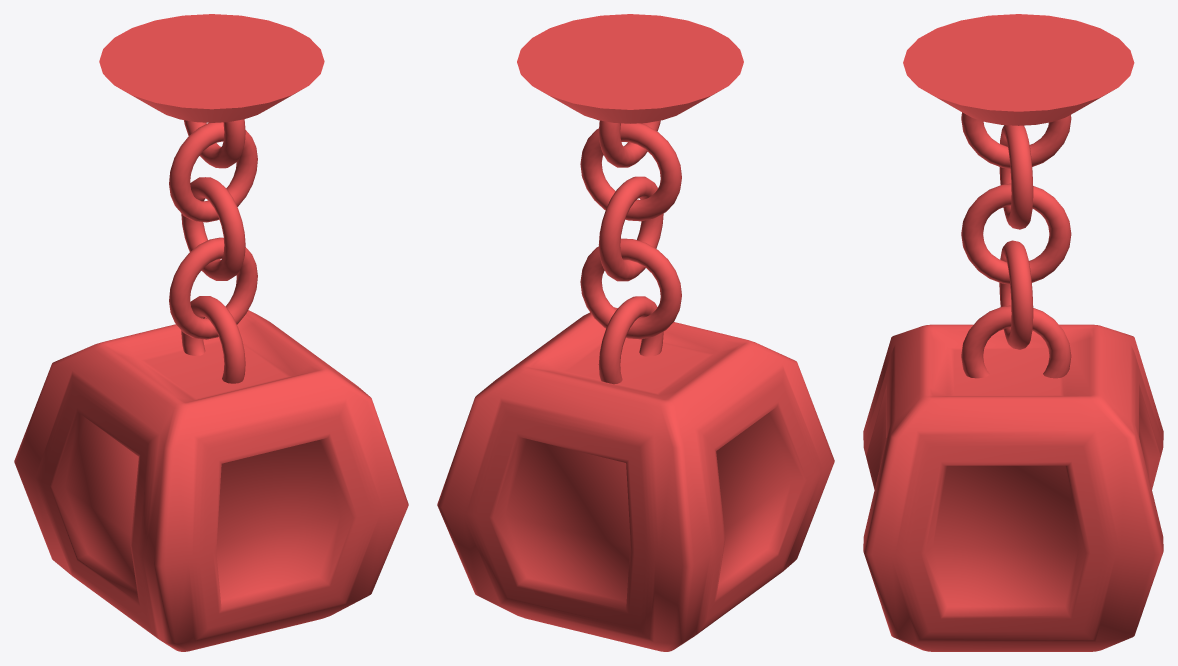
File: lampara.fbx
3 renders of one model, left to right at view 1: azimuth 30°, elevation 25°; view 2: azimuth 150°, elevation 25°; view 3: azimuth 270°, elevation 25°, orthographic. The views are drawn at different scales.
Parts seen in each view (by area): view 1: Candelabro; view 2: Candelabro; view 3: Candelabro.
Part boxes in pixels (x1=…): Candelabro: x1=14, y1=14, x2=408, y2=651; Candelabro: x1=437, y1=14, x2=834, y2=651; Candelabro: x1=863, y1=14, x2=1163, y2=651.
Size of the model in its own units: 14.52 by 29.55 by 14.52.
